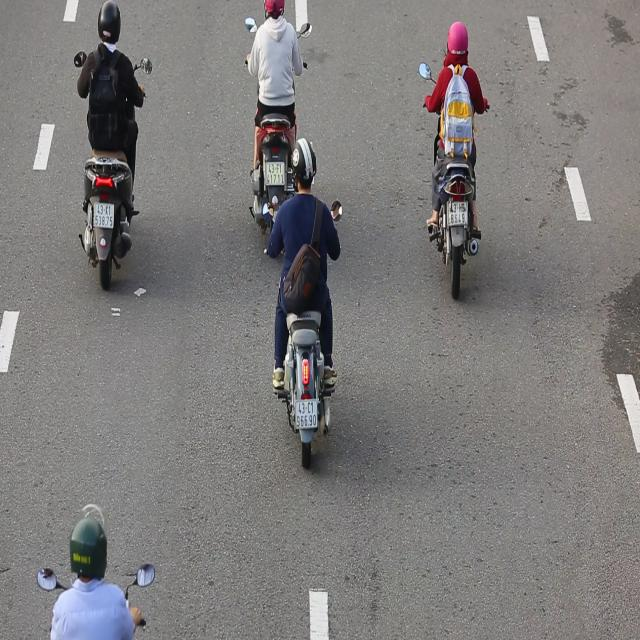motorbike: (263, 137, 348, 478), (73, 0, 155, 300), (422, 15, 491, 316)
